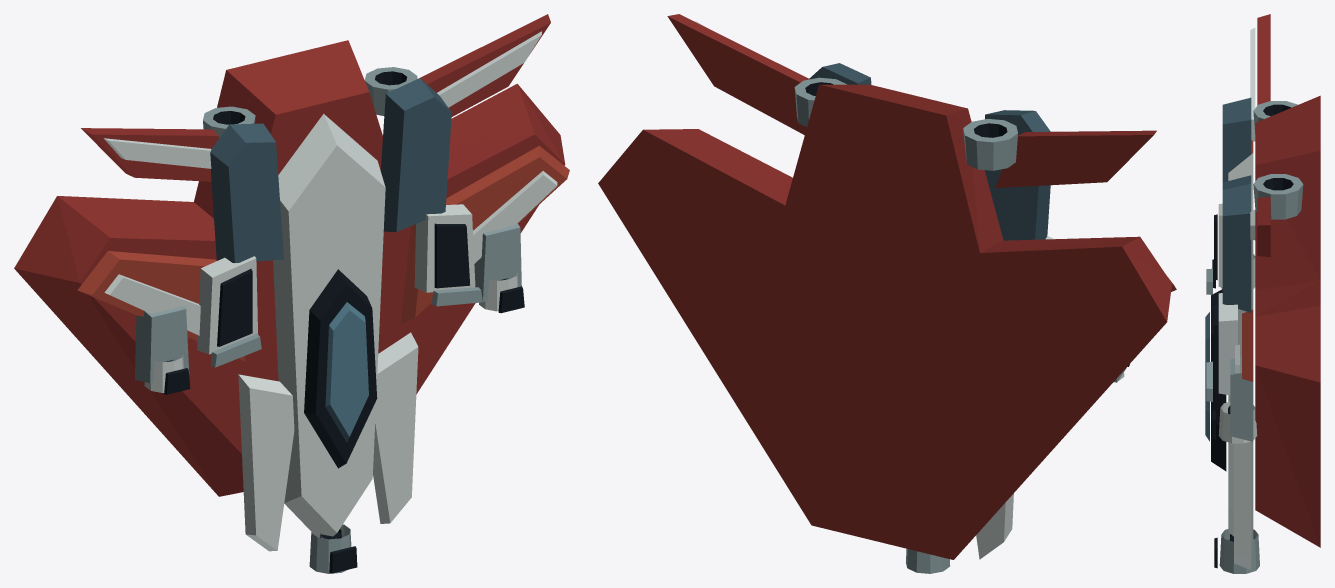
3 views of the same model, side by side, from view 1: azimuth 30°, elevation 25°; view 2: azimuth 150°, elevation 25°; view 3: azimuth 270°, elevation 25° (orthographic). The views are drawn at different scales.
Parts seen in each view (by area): view 1: Model; view 2: Model; view 3: Model.
Boxes of the visible parts, x1,y1,x2,y2 form: Model: (14,14,569,573); Model: (598,14,1176,573); Model: (1205,14,1320,573).
Size of the model in its own units: 3.04 by 2.56 by 0.6.
